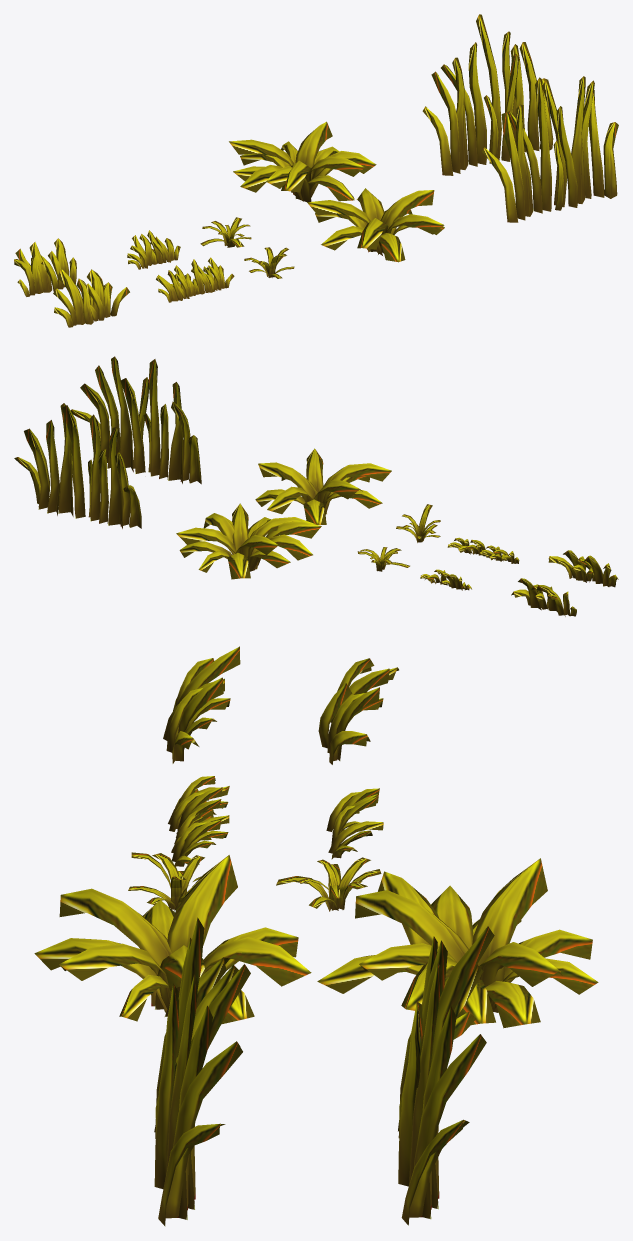
File: planes_grass_pack_mesh.fbx
3 views of the same model, one above another, from view 1: azimuth 30°, elevation 25°; view 2: azimuth 150°, elevation 25°; view 3: azimuth 270°, elevation 25° (orthographic). The views are drawn at different scales.
Parts seen in each view (by area): view 1: Plane_grass_high1, Plane_grass_high2, Plane_grass_shrub_large2, Plane_grass_shrub_large1, Plane_grass_med1, Plane_grass_med2, Plane_grass_low1, Plane_grass_low2, Plane_grass_shrub_small2, Plane_grass_shrub_small1; view 2: Plane_grass_high1, Plane_grass_high2, Plane_grass_shrub_large2, Plane_grass_shrub_large1, Plane_grass_med1, Plane_grass_med2, Plane_grass_low1, Plane_grass_shrub_small1, Plane_grass_low2, Plane_grass_shrub_small2; view 3: Plane_grass_shrub_large2, Plane_grass_shrub_large1, Plane_grass_high1, Plane_grass_high2, Plane_grass_med1, Plane_grass_med2, Plane_grass_low1, Plane_grass_low2, Plane_grass_shrub_small2, Plane_grass_shrub_small1.
Part boxes in pixels (bbox=[...]): Plane_grass_high1: bbox=[482, 76, 618, 222]; Plane_grass_high2: bbox=[422, 14, 553, 175]; Plane_grass_shrub_large2: bbox=[229, 121, 376, 202]; Plane_grass_shrub_large1: bbox=[307, 188, 444, 262]; Plane_grass_med1: bbox=[53, 269, 129, 327]; Plane_grass_med2: bbox=[14, 238, 76, 296]; Plane_grass_low1: bbox=[156, 257, 234, 302]; Plane_grass_low2: bbox=[127, 230, 180, 269]; Plane_grass_shrub_small2: bbox=[200, 217, 251, 247]; Plane_grass_shrub_small1: bbox=[244, 247, 294, 278]; Plane_grass_high1: bbox=[70, 356, 201, 484]; Plane_grass_high2: bbox=[14, 403, 141, 528]; Plane_grass_shrub_large2: bbox=[176, 503, 321, 579]; Plane_grass_shrub_large1: bbox=[255, 448, 391, 524]; Plane_grass_med1: bbox=[548, 550, 618, 587]; Plane_grass_med2: bbox=[511, 578, 576, 616]; Plane_grass_low1: bbox=[447, 537, 519, 563]; Plane_grass_shrub_small1: bbox=[396, 504, 440, 542]; Plane_grass_low2: bbox=[420, 569, 471, 590]; Plane_grass_shrub_small2: bbox=[357, 547, 409, 571]; Plane_grass_shrub_large2: bbox=[317, 858, 598, 1028]; Plane_grass_shrub_large1: bbox=[34, 855, 311, 1024]; Plane_grass_high1: bbox=[154, 917, 250, 1226]; Plane_grass_high2: bbox=[398, 926, 494, 1225]; Plane_grass_med1: bbox=[163, 646, 240, 763]; Plane_grass_med2: bbox=[318, 658, 398, 764]; Plane_grass_low1: bbox=[168, 776, 229, 866]; Plane_grass_low2: bbox=[326, 788, 383, 859]; Plane_grass_shrub_small2: bbox=[276, 857, 381, 911]; Plane_grass_shrub_small1: bbox=[128, 852, 204, 911].
Size of the model in its own units: 7.98 by 1.8 by 3.59.
Materials: 1 (1 with a texture image).
